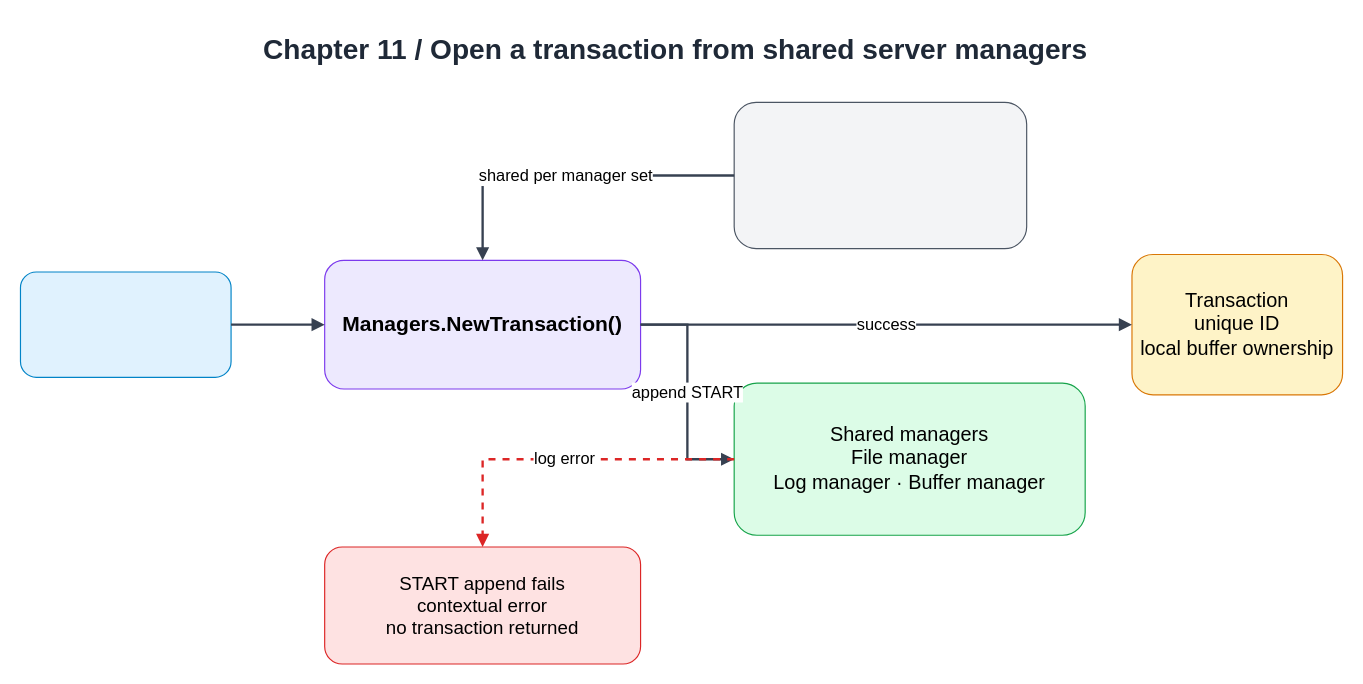
The diagram is 1363 pixels wide and 684 high, and some of its shapes have lost their labels. The centre of each missing label's shape, as x and y in pixels:
Application caller: (125,324)
Shared runtime state ID allocator Lock table: (880,175)
